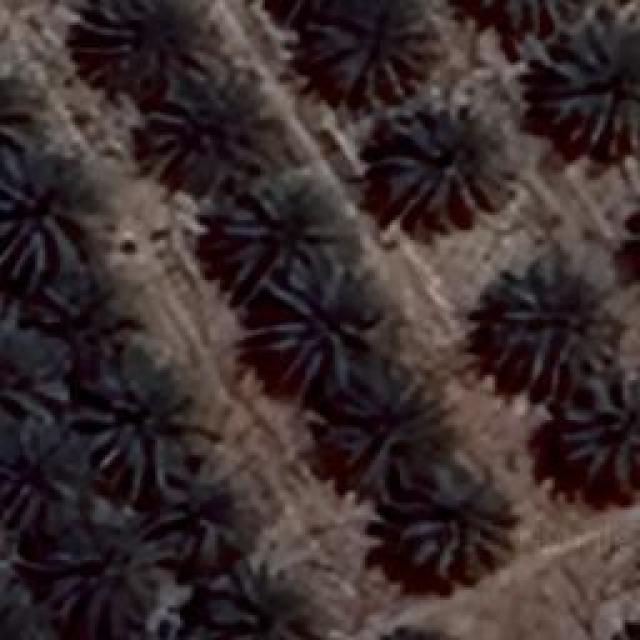PalmTree: (110, 62, 254, 608), (129, 13, 525, 62), (72, 360, 206, 495), (147, 60, 290, 185), (47, 498, 175, 620), (378, 105, 510, 220), (495, 258, 615, 380), (390, 460, 512, 578), (250, 258, 362, 380), (308, 0, 442, 95), (544, 20, 638, 155), (326, 379, 436, 469), (218, 192, 340, 268), (560, 365, 638, 480), (0, 172, 80, 280), (92, 0, 218, 60), (0, 318, 78, 412), (166, 486, 252, 568), (0, 417, 72, 507), (0, 60, 38, 168), (0, 580, 40, 640), (629, 185, 640, 303)
